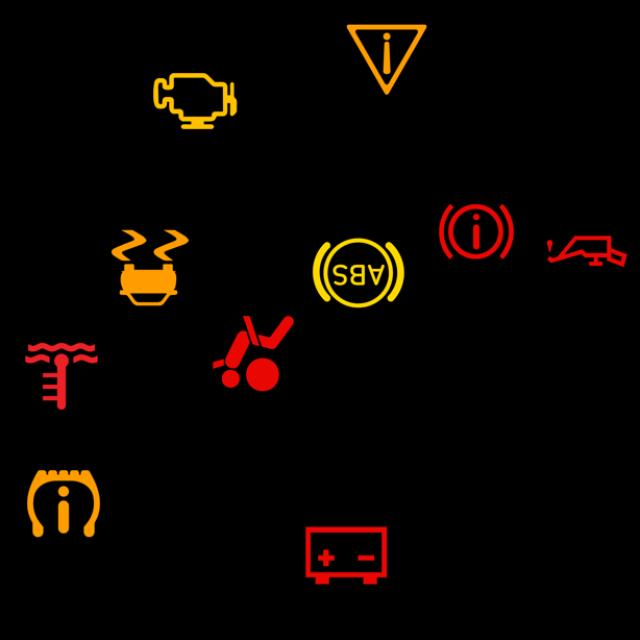Anti Lock Braking System: (308, 222, 408, 322)
Braking System Issue: (426, 180, 526, 280)
Charging System Issue: (296, 504, 396, 604)
Check Engine: (145, 50, 245, 150)
Electronic Stability Problem -ESP-: (100, 217, 200, 317)
Engine Overheating Warning Light: (12, 325, 112, 425)
Low Engine Oil Warning Light: (537, 200, 637, 300)
Low Tire Pressure Warning Light: (13, 452, 114, 552)
Master warning light: (336, 8, 436, 108)
SRS-Airbag: (204, 302, 304, 402)
